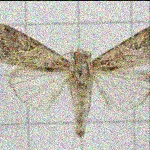Spodoptera litura: (0, 22, 149, 136)
